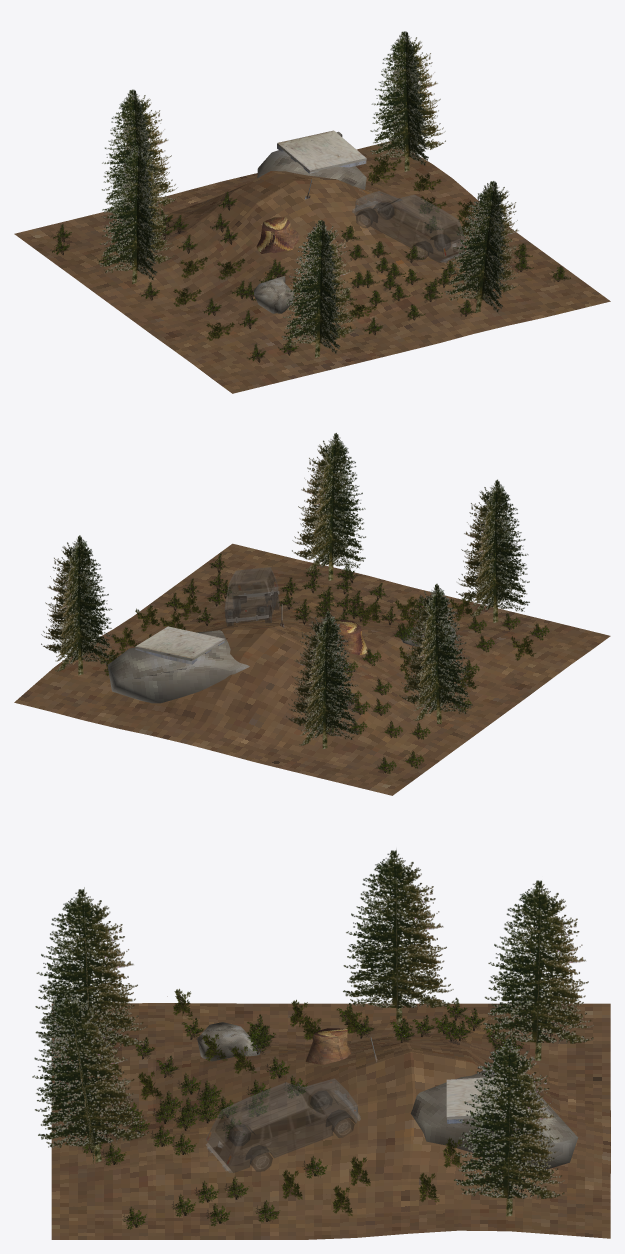
Rendered from scenery.glb.
3 views of the same model, one above another, from view 1: azimuth 30°, elevation 25°; view 2: azimuth 150°, elevation 25°; view 3: azimuth 270°, elevation 25° (orthographic). The views are drawn at different scales.
Parts seen in each view (by area): view 1: Plane, PineTree.002, PineTree, PineTree.001, PineTree.003, Car, PineTree.004, Pallet, rock_4.001, nature_tree_trunk, rock_4; view 2: Plane, PineTree.003, PineTree.001, PineTree, PineTree.002, PineTree.004, rock_4.001, Car, Pallet, nature_tree_trunk; view 3: Plane, PineTree.004, PineTree.002, PineTree, PineTree.003, Car, PineTree.001, rock_4.001, Pallet, rock_4, nature_tree_trunk.
Boxes of the visible parts, left/top/right/bottom form: Plane: left=14, top=141, right=610, bottom=393; PineTree.002: left=370, top=31, right=445, bottom=171; PineTree: left=98, top=145, right=173, bottom=284; PineTree.001: left=281, top=220, right=357, bottom=357; PineTree.003: left=444, top=181, right=520, bottom=313; Car: left=352, top=191, right=466, bottom=262; PineTree.004: left=101, top=89, right=178, bottom=219; Pallet: left=277, top=130, right=366, bottom=173; rock_4.001: left=257, top=131, right=366, bottom=189; nature_tree_trunk: left=256, top=217, right=300, bottom=253; rock_4: left=254, top=276, right=294, bottom=313; Plane: left=14, top=543, right=610, bottom=795; PineTree.003: left=292, top=433, right=365, bottom=580; PineTree.001: left=456, top=479, right=529, bottom=622; PineTree: left=399, top=583, right=472, bottom=723; PineTree.002: left=41, top=535, right=114, bottom=675; PineTree.004: left=286, top=610, right=359, bottom=748; rock_4.001: left=107, top=630, right=249, bottom=703; Car: left=225, top=567, right=279, bottom=626; Pallet: left=135, top=626, right=224, bottom=664; nature_tree_trunk: left=333, top=619, right=368, bottom=654; Plane: left=51, top=1003, right=610, bottom=1239; PineTree.004: left=483, top=880, right=593, bottom=1060; PineTree.002: left=454, top=1038, right=564, bottom=1216; PineTree: left=343, top=849, right=453, bottom=1024; PineTree.003: left=32, top=989, right=149, bottom=1163; Car: left=206, top=1078, right=360, bottom=1172; PineTree.001: left=35, top=887, right=146, bottom=1063; rock_4.001: left=410, top=1067, right=578, bottom=1171; Pallet: left=446, top=1075, right=530, bottom=1123; rock_4: left=197, top=1022, right=261, bottom=1061; nature_tree_trunk: left=305, top=1028, right=351, bottom=1064.
Bounding box in the file's own units: 20.73 × 8.03 × 21.35.
Materials: 84 (84 with a texture image).
